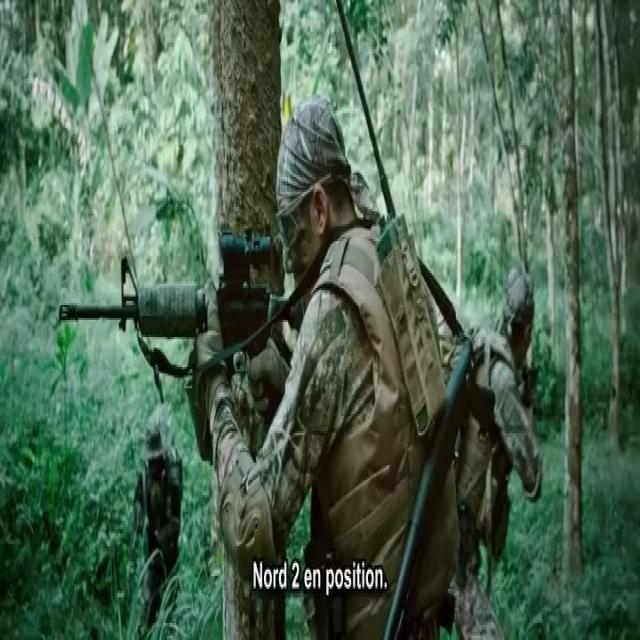gun-knife-thesis - v11 Yolov5 augmented: (59, 224, 343, 452)
